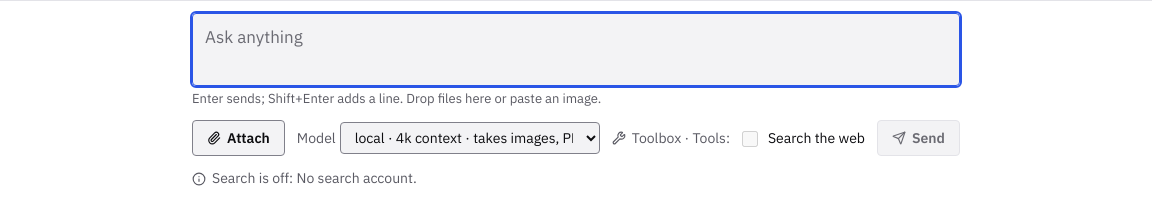
Test case: the hint and the draft › says a draft is kept, in the same hint
Type "hi" into the text box with test id "composer" at (576, 50), box [192, 13, 960, 86]
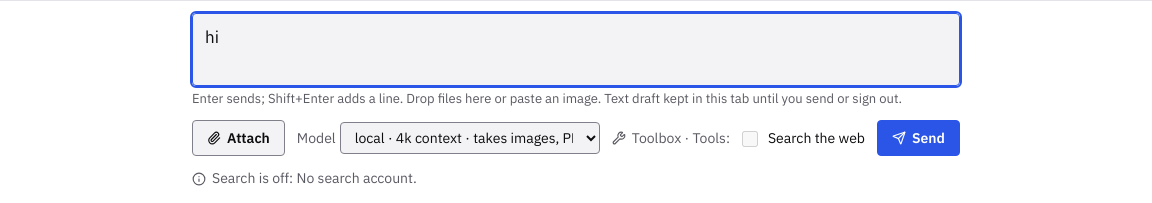
Check: the text with id "composer-hint" shows "Text draft kept in this tab until you send or sign out.", box [604, 90, 902, 107]
